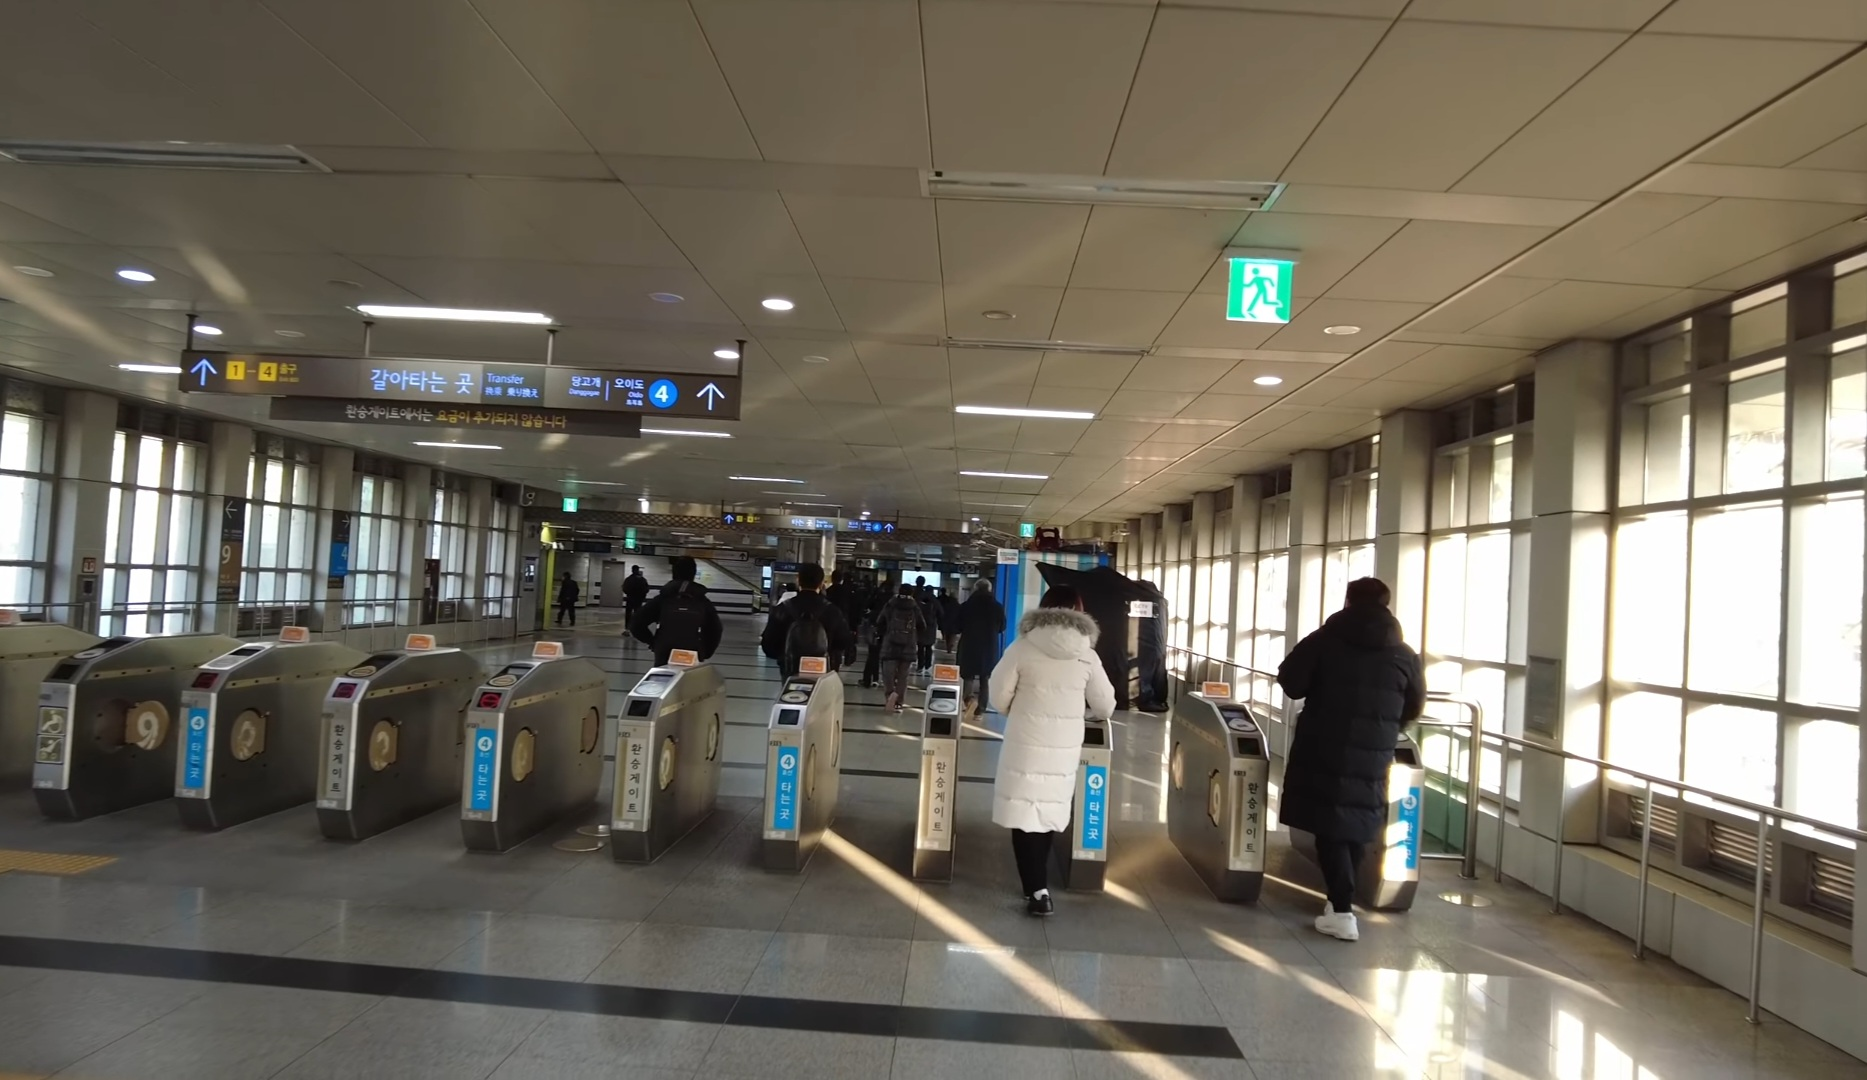signBoard: (175, 312, 753, 431)
